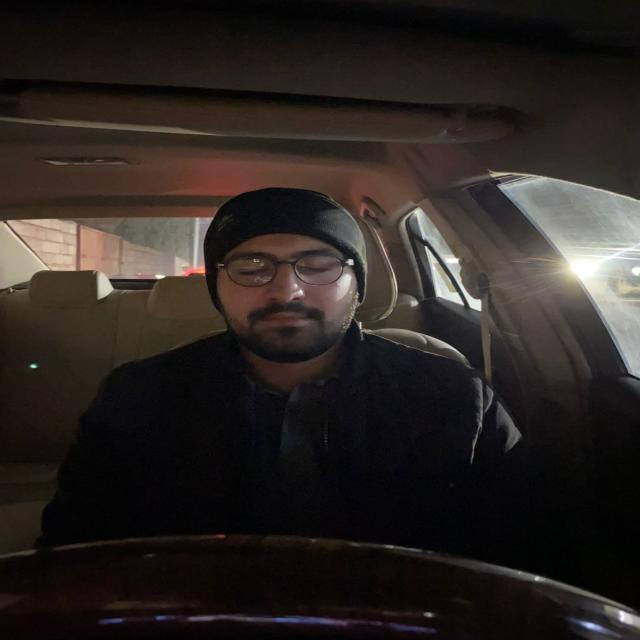drowsy: (200, 186, 372, 364)
